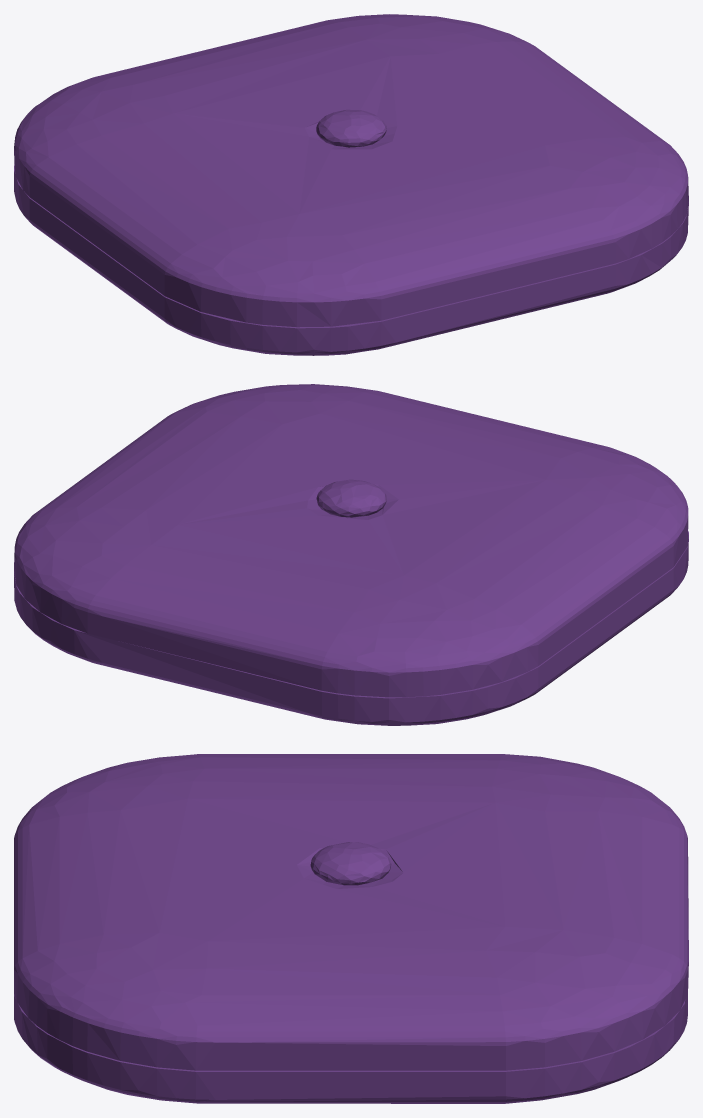
File: pillow.glb
The picture shows the model from 3 angles, top to bottom: view 1: azimuth 30°, elevation 25°; view 2: azimuth 150°, elevation 25°; view 3: azimuth 270°, elevation 25°; orthographic projection. The views are drawn at different scales.
Parts seen in each view (by area): view 1: Mesh_Mesh_head_geo001_lambert2SG001; view 2: Mesh_Mesh_head_geo001_lambert2SG001; view 3: Mesh_Mesh_head_geo001_lambert2SG001.
Part boxes in pixels (x1,y1,x2,y2): Mesh_Mesh_head_geo001_lambert2SG001: (14, 14, 688, 355); Mesh_Mesh_head_geo001_lambert2SG001: (14, 384, 688, 725); Mesh_Mesh_head_geo001_lambert2SG001: (14, 754, 688, 1103).
Size of the model in its own units: 99.71 by 25.75 by 99.85.
